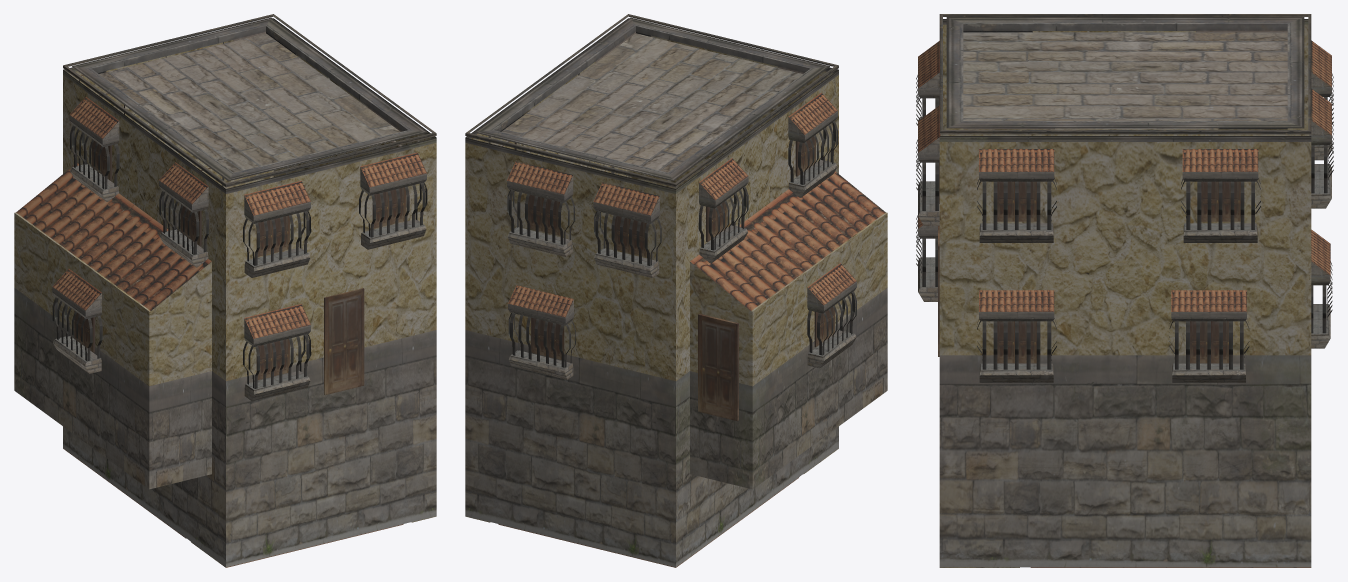
The model's file is house_b.dae.
3 renders of one model, left to right at view 1: azimuth 30°, elevation 25°; view 2: azimuth 150°, elevation 25°; view 3: azimuth 270°, elevation 25°, orthographic. The views are drawn at different scales.
Visible parts, largest first — view 1: CasaB; view 2: CasaB; view 3: CasaB.
Part boxes in pixels (<box>): CasaB: <box>14,14,436,567</box>; CasaB: <box>465,14,887,567</box>; CasaB: <box>916,14,1333,567</box>.
Bounding box in the file's own units: 15.28 × 15.75 × 18.19.
Materials: 1 (1 with a texture image).
